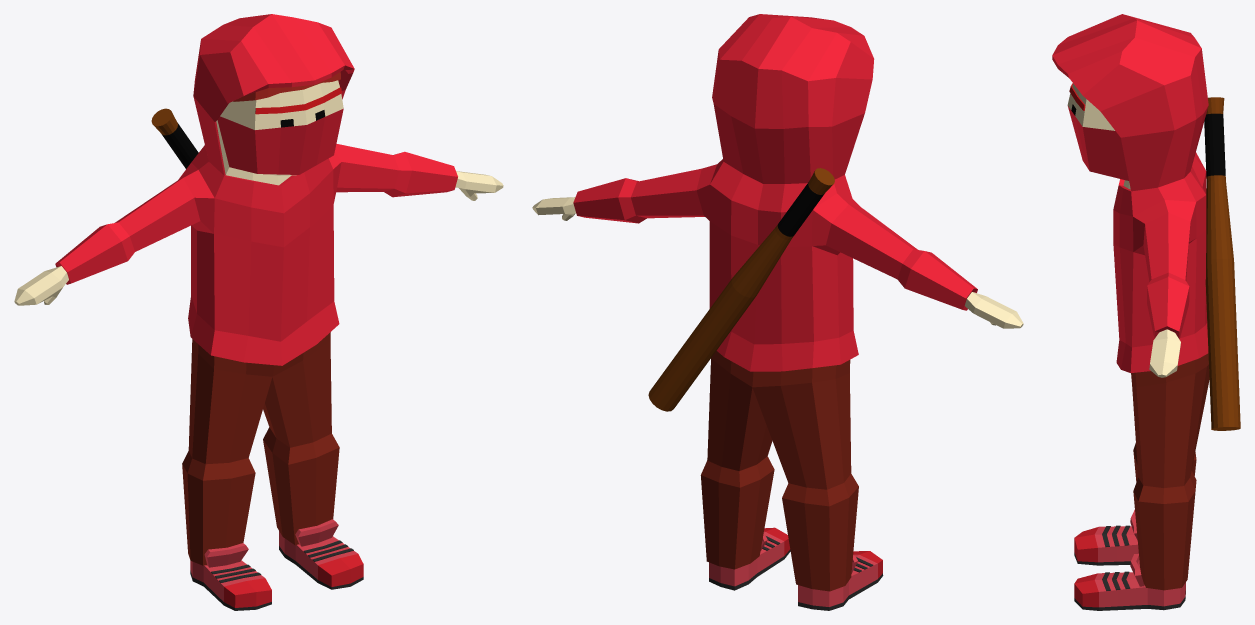
The model's file is Character_Boy_Red.fbx.
The picture shows the model from 3 angles, left to right: view 1: azimuth 30°, elevation 25°; view 2: azimuth 150°, elevation 25°; view 3: azimuth 270°, elevation 25°; orthographic projection.
Parts seen in each view (by area): view 1: Cube.001, Cylinder; view 2: Cube.001, Cylinder; view 3: Cube.001, Cylinder.
Part boxes in pixels (<box>): Cube.001: <box>14,14,503,610</box>; Cylinder: <box>151,108,198,168</box>; Cube.001: <box>532,14,1023,610</box>; Cylinder: <box>648,168,834,411</box>; Cube.001: <box>1052,14,1209,610</box>; Cylinder: <box>1204,97,1240,430</box>.
Bounding box in the file's own units: 153 × 169 × 51.67.
